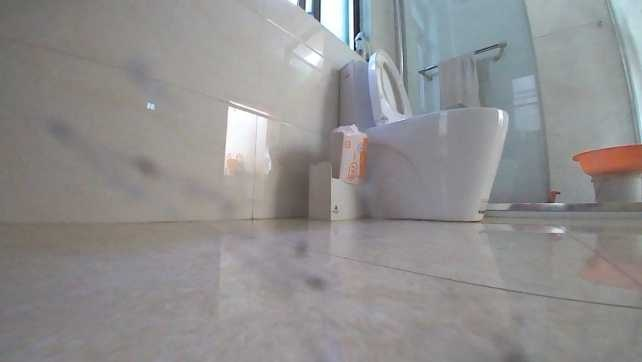toilet: (334, 47, 512, 223)
